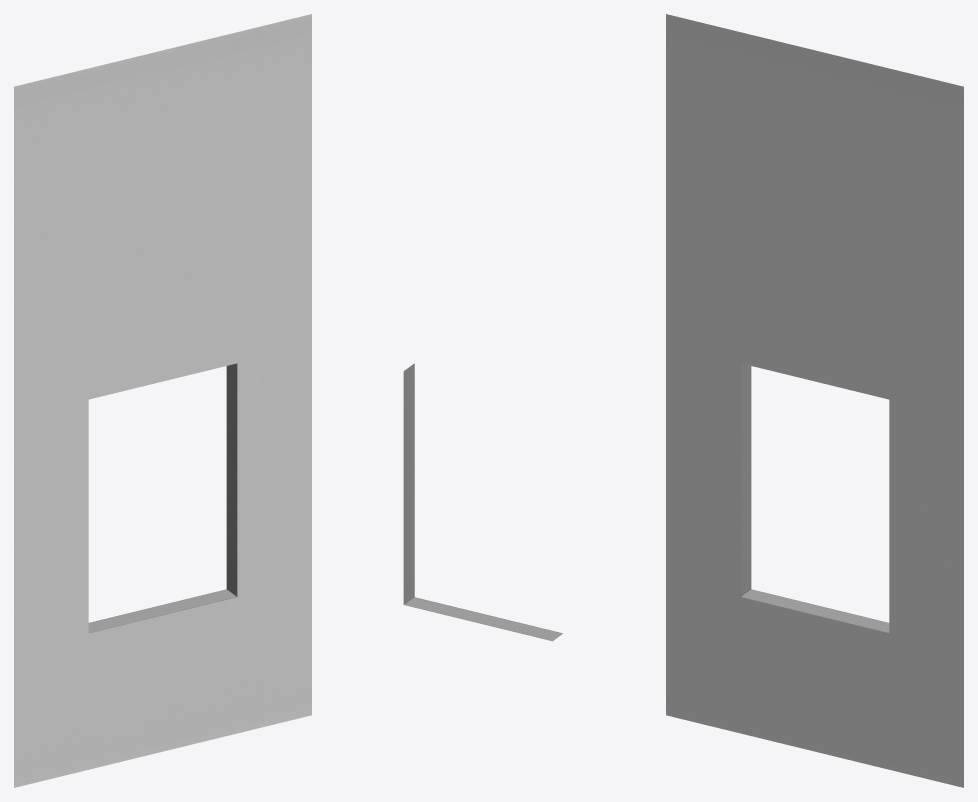
File: Wall2x4_5Win1x1_5Vert.gltf
The picture shows the model from 3 angles, left to right: view 1: azimuth 30°, elevation 25°; view 2: azimuth 150°, elevation 25°; view 3: azimuth 330°, elevation 25°; orthographic projection.
Visible parts, largest first — view 1: Wall2x4_5Win1x1_5VertShape; view 2: Wall2x4_5Win1x1_5VertShape; view 3: Wall2x4_5Win1x1_5VertShape.
Part boxes in pixels (left/top/right/bottom): Wall2x4_5Win1x1_5VertShape: left=14, top=14, right=311, bottom=787; Wall2x4_5Win1x1_5VertShape: left=403, top=363, right=562, bottom=641; Wall2x4_5Win1x1_5VertShape: left=666, top=14, right=963, bottom=787.
Size of the model in its own units: 2 by 4.5 by 0.125.
Materials: 1 (1 with a texture image).
